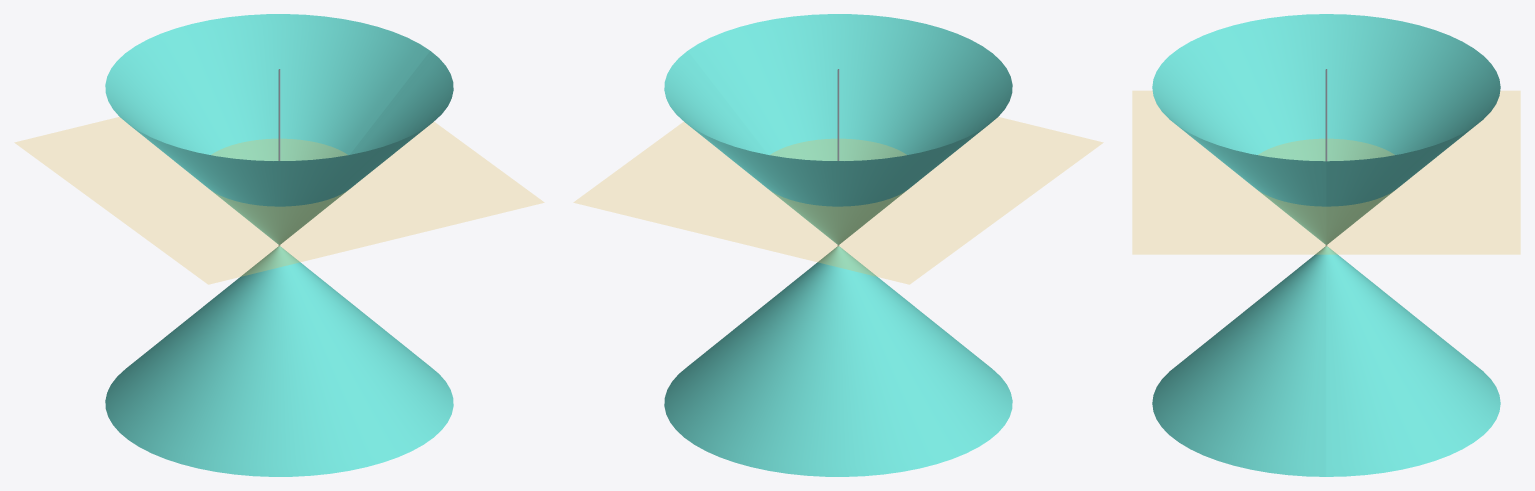
File: conics.glb
3 renders of one model, left to right at view 1: azimuth 30°, elevation 25°; view 2: azimuth 150°, elevation 25°; view 3: azimuth 270°, elevation 25°, orthographic.
Visible parts, largest first — view 1: konos, epipedo; view 2: konos, epipedo; view 3: konos, epipedo.
Boxes of the visible parts, <box> form: konos: <box>105,14,453,476</box>; epipedo: <box>15,117,543,284</box>; konos: <box>664,14,1012,476</box>; epipedo: <box>574,117,1102,284</box>; konos: <box>1152,14,1500,476</box>; epipedo: <box>1132,91,1520,254</box>.
Size of what is drawn, in the model's own units: 0.25 by 0.25 by 0.25.
